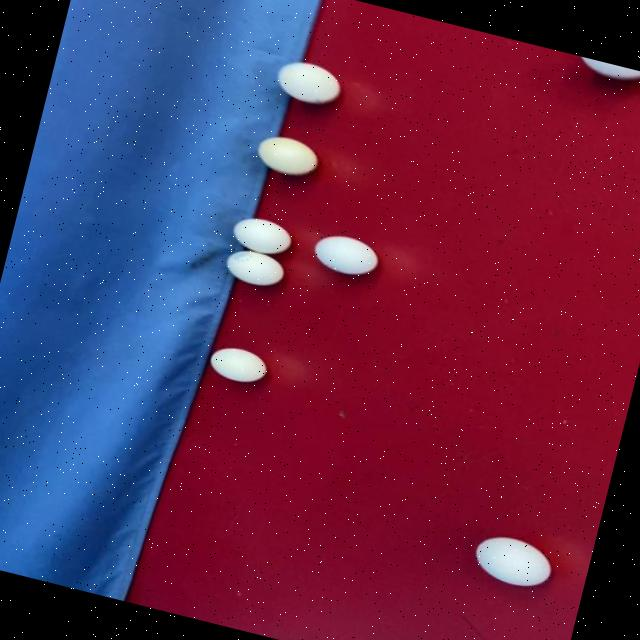ping-pong-ball: (449, 516, 578, 604), (301, 219, 398, 287), (262, 48, 352, 118), (242, 123, 336, 186), (195, 337, 284, 393), (222, 208, 302, 260), (214, 242, 292, 294), (563, 52, 640, 91)
